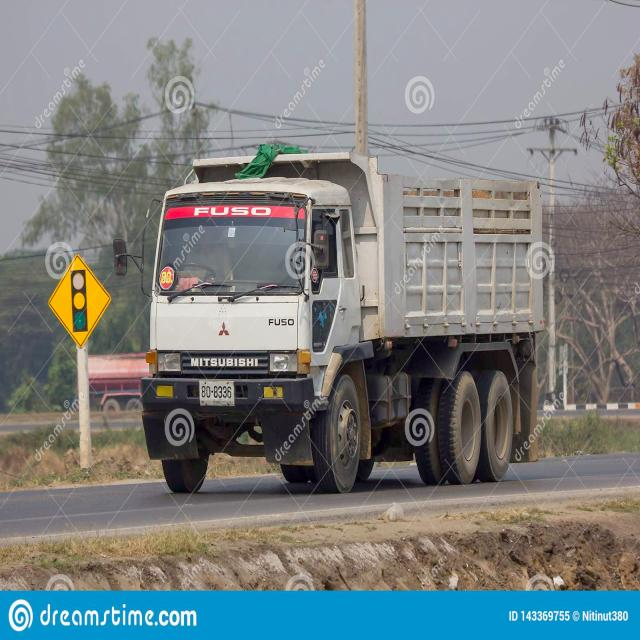truck: (114, 139, 547, 491)
